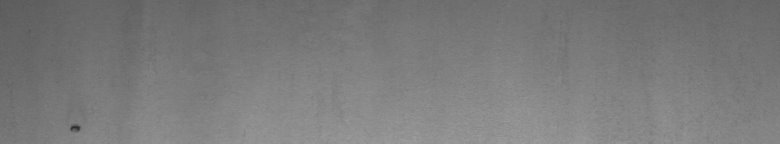fi: (69, 116, 84, 136)
